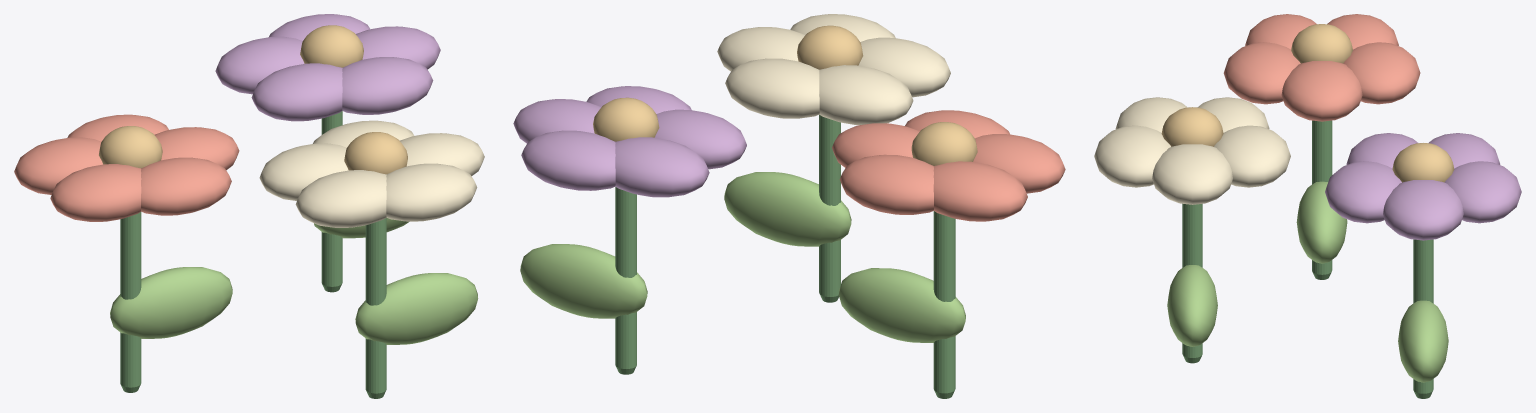
Rendered from flower_patch.glb.
The picture shows the model from 3 angles, left to right: view 1: azimuth 30°, elevation 25°; view 2: azimuth 150°, elevation 25°; view 3: azimuth 270°, elevation 25°; orthographic projection. The views are drawn at different scales.
Visible parts, largest first — view 1: flower_patch_Mesh; view 2: flower_patch_Mesh; view 3: flower_patch_Mesh.
Boxes of the visible parts, x1=… form: flower_patch_Mesh: x1=14, y1=14, x2=484, y2=398; flower_patch_Mesh: x1=513, y1=14, x2=1065, y2=398; flower_patch_Mesh: x1=1094, y1=14, x2=1521, y2=398.
Bounding box in the file's own units: 0.8899 × 0.495 × 0.7597.
